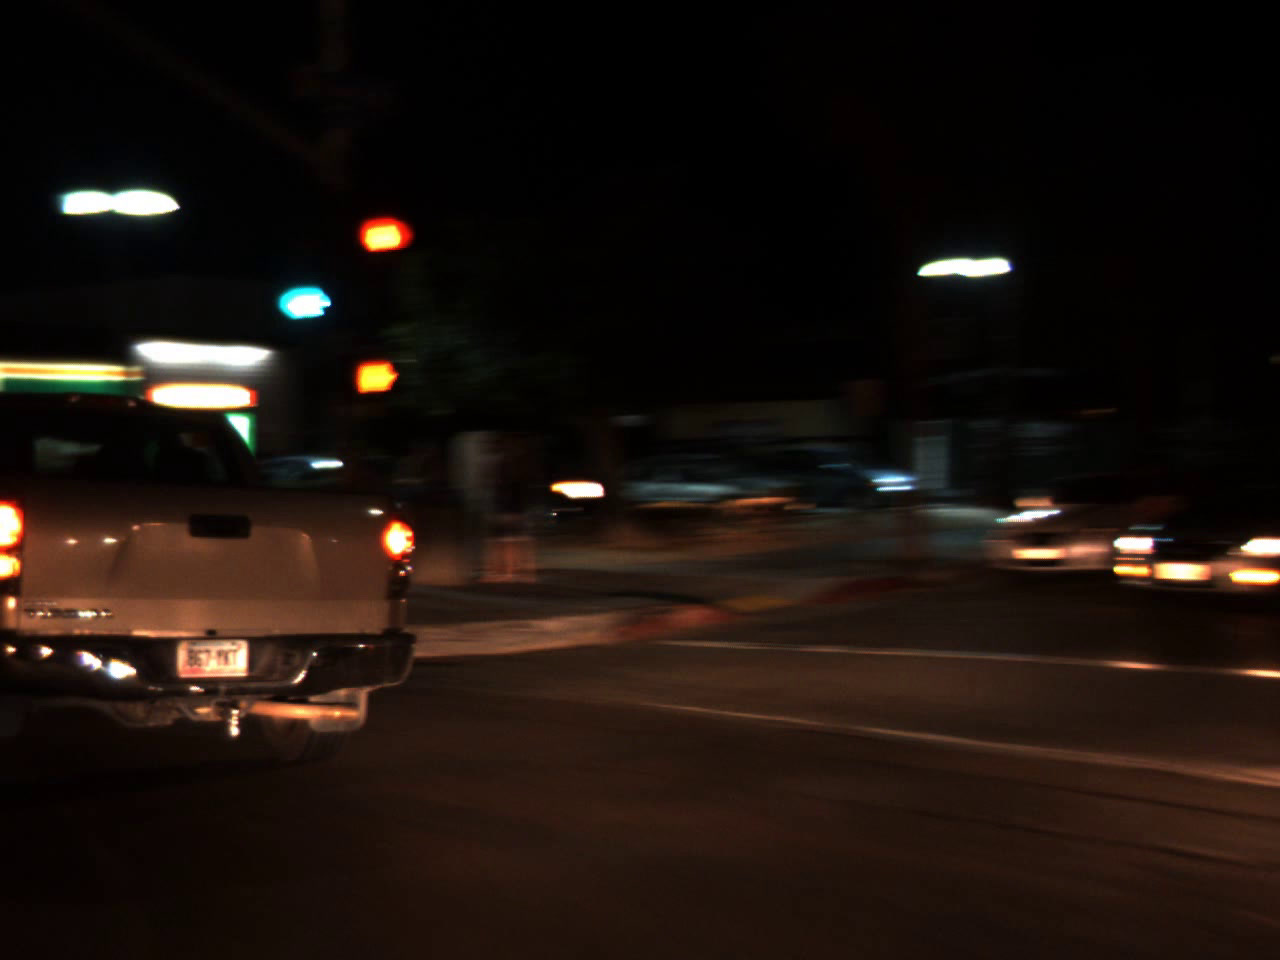go: (270, 250, 340, 331)
